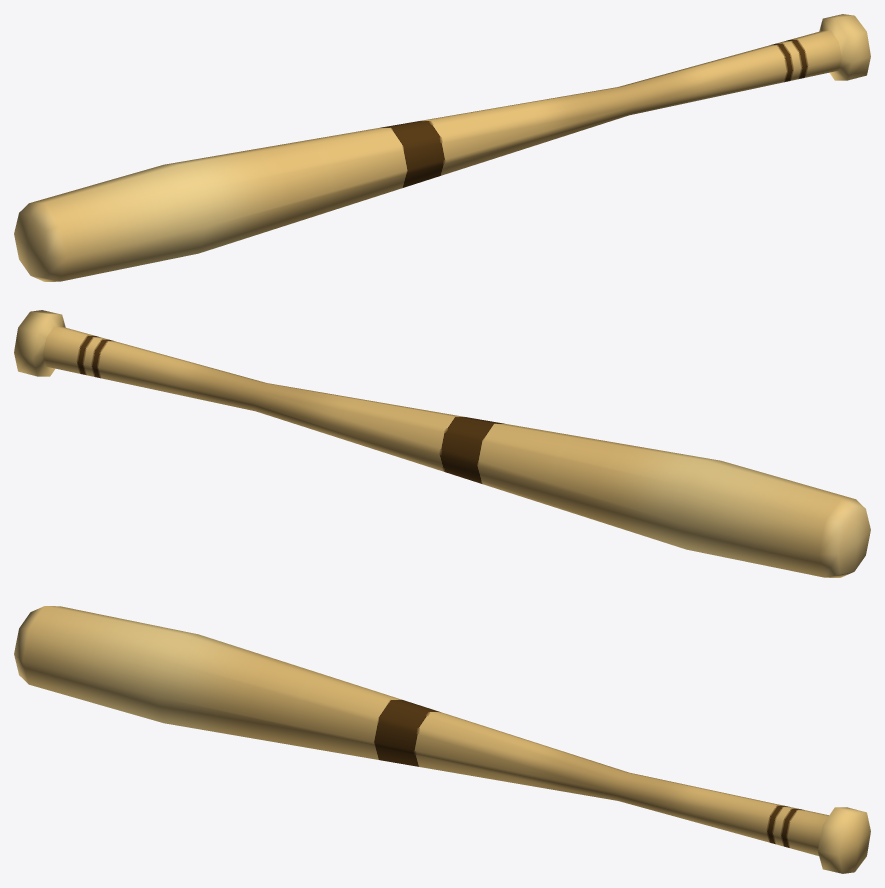
File: Batte.fbx
3 renders of one model, top to bottom at view 1: azimuth 30°, elevation 25°; view 2: azimuth 150°, elevation 25°; view 3: azimuth 330°, elevation 25°, orthographic.
Parts seen in each view (by area): view 1: pCube1; view 2: pCube1; view 3: pCube1.
Part boxes in pixels (box(x1,y1,x2,y2)): pCube1: box(14, 14, 870, 281); pCube1: box(14, 310, 870, 577); pCube1: box(14, 606, 870, 873).
Size of the model in its own units: 6.01 by 0.6169 by 0.6169.
